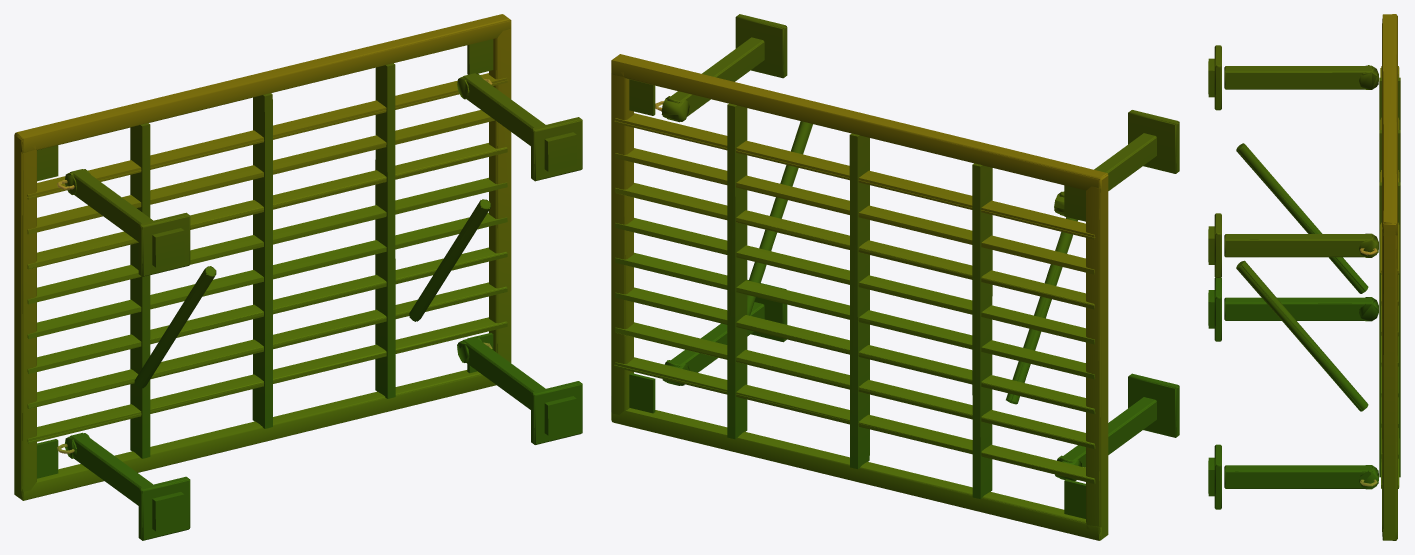
File: RCLModule_assault_walker_orbital_drop_pod_cermet_era_LODs.fbx
The picture shows the model from 3 angles, left to right: view 1: azimuth 30°, elevation 25°; view 2: azimuth 150°, elevation 25°; view 3: azimuth 270°, elevation 25°; orthographic projection. The views are drawn at different scales.
Visible parts, largest first — view 1: LOD1_RCLModule_assault_walker_orbital_drop_pod_cermet_era_Ba (×2), LOD2_RCLModule_assault_walker_orbital_drop_pod_cermet_era_Ba (×2); view 2: LOD1_RCLModule_assault_walker_orbital_drop_pod_cermet_era_Ba (×2), LOD2_RCLModule_assault_walker_orbital_drop_pod_cermet_era_Ba (×2); view 3: LOD1_RCLModule_assault_walker_orbital_drop_pod_cermet_era_Ba (×2), LOD2_RCLModule_assault_walker_orbital_drop_pod_cermet_era_Ba (×2).
Boxes of the visible parts, x1,y1,x2,y2 form: LOD1_RCLModule_assault_walker_orbital_drop_pod_cermet_era_Ba (×2): (14,14,582,540); LOD2_RCLModule_assault_walker_orbital_drop_pod_cermet_era_Ba (×2): (15,14,582,540); LOD1_RCLModule_assault_walker_orbital_drop_pod_cermet_era_Ba (×2): (611,14,1179,540); LOD2_RCLModule_assault_walker_orbital_drop_pod_cermet_era_Ba (×2): (611,16,1179,540); LOD1_RCLModule_assault_walker_orbital_drop_pod_cermet_era_Ba (×2): (1208,14,1400,540); LOD2_RCLModule_assault_walker_orbital_drop_pod_cermet_era_Ba (×2): (1215,14,1399,540).
Bounding box in the file's own units: 68 × 48.2 × 26.31.
